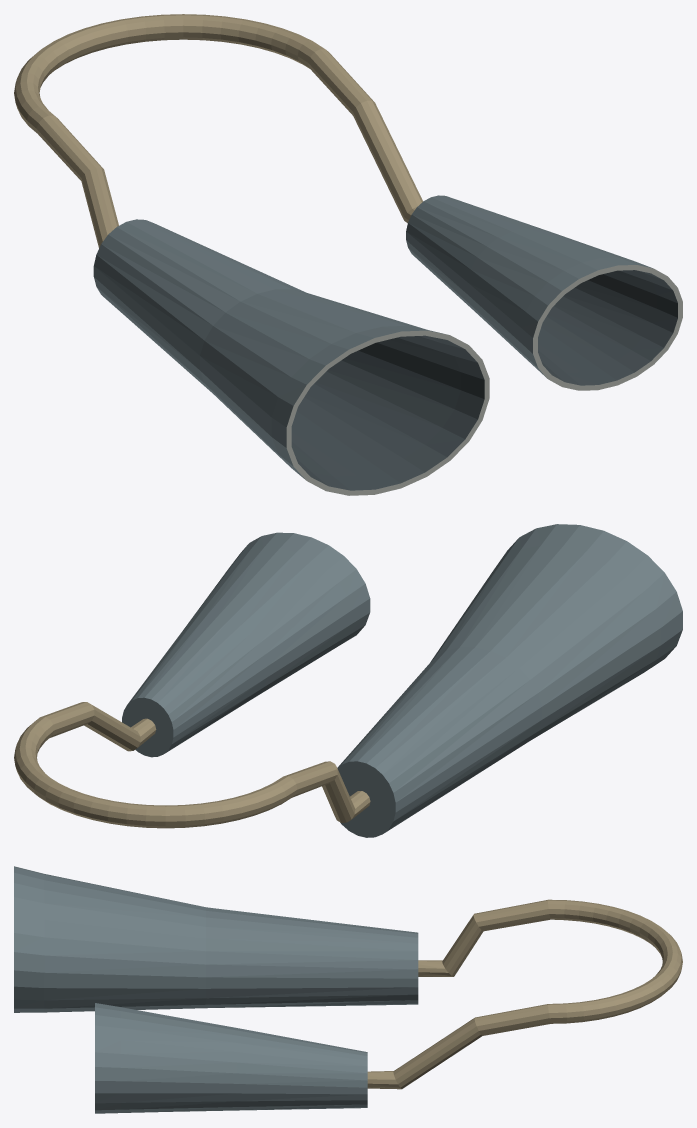
3 renders of one model, top to bottom at view 1: azimuth 30°, elevation 25°; view 2: azimuth 150°, elevation 25°; view 3: azimuth 270°, elevation 25°, orthographic. The views are drawn at different scales.
Parts seen in each view (by area): view 1: WholeLargeClapperlessOvalBell, WholeSmallClapperlessOvalBell, WholeSharedContinuousReturnGrip; view 2: WholeLargeClapperlessOvalBell, WholeSmallClapperlessOvalBell, WholeSharedContinuousReturnGrip; view 3: WholeLargeClapperlessOvalBell, WholeSmallClapperlessOvalBell, WholeSharedContinuousReturnGrip.
Part boxes in pixels (bbox=[...]): WholeLargeClapperlessOvalBell: bbox=[93, 219, 489, 495]; WholeSmallClapperlessOvalBell: bbox=[406, 195, 682, 390]; WholeSharedContinuousReturnGrip: bbox=[14, 14, 422, 248]; WholeLargeClapperlessOvalBell: bbox=[337, 524, 682, 837]; WholeSmallClapperlessOvalBell: bbox=[122, 532, 370, 757]; WholeSharedContinuousReturnGrip: bbox=[14, 702, 370, 828]; WholeLargeClapperlessOvalBell: bbox=[14, 866, 418, 1012]; WholeSmallClapperlessOvalBell: bbox=[95, 1003, 367, 1113]; WholeSharedContinuousReturnGrip: bbox=[367, 899, 682, 1089].
Size of the model in its own units: 0.2013 by 0.0674 by 0.331.
